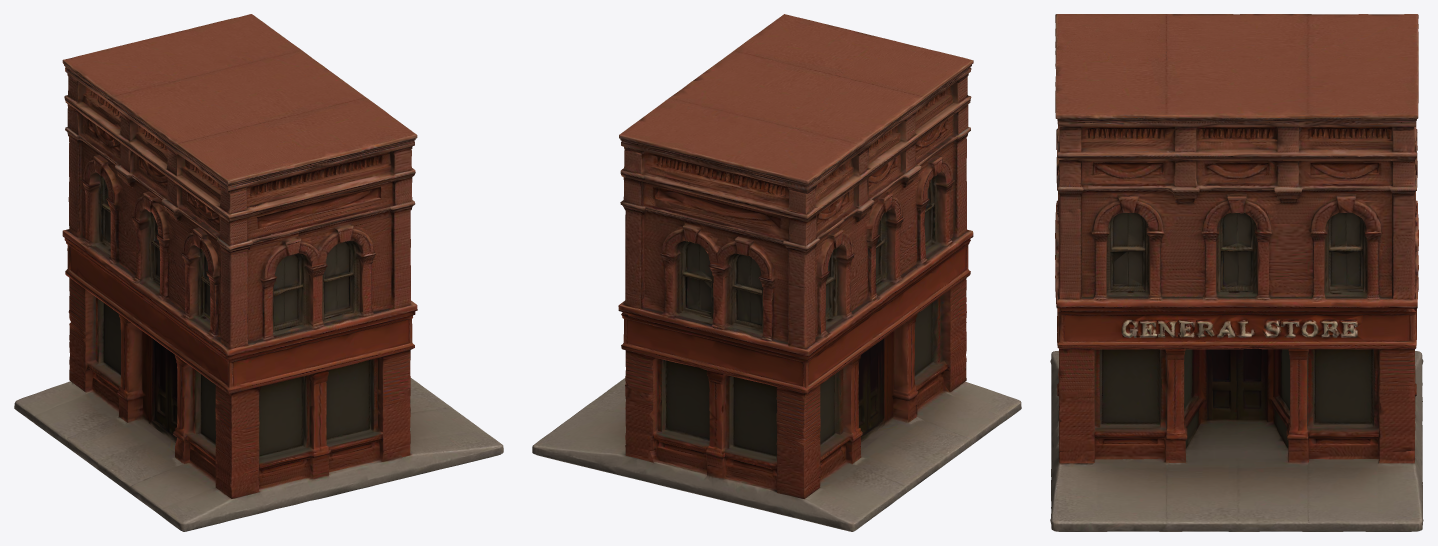
File: building3d5.glb
The picture shows the model from 3 angles, left to right: view 1: azimuth 30°, elevation 25°; view 2: azimuth 150°, elevation 25°; view 3: azimuth 270°, elevation 25°; orthographic projection. The views are drawn at different scales.
Visible parts, largest first — view 1: tripo_node_9d43e6f4-a8e4-4974-9d8e-3033f06d3b3a; view 2: tripo_node_9d43e6f4-a8e4-4974-9d8e-3033f06d3b3a; view 3: tripo_node_9d43e6f4-a8e4-4974-9d8e-3033f06d3b3a.
Part boxes in pixels (x1,y1,x2,y2): tripo_node_9d43e6f4-a8e4-4974-9d8e-3033f06d3b3a: (14, 14, 503, 531); tripo_node_9d43e6f4-a8e4-4974-9d8e-3033f06d3b3a: (532, 14, 1021, 531); tripo_node_9d43e6f4-a8e4-4974-9d8e-3033f06d3b3a: (1050, 14, 1423, 531).
Size of the model in its own units: 0.994 by 1 by 0.9079.
Materials: 1 (1 with a texture image).
